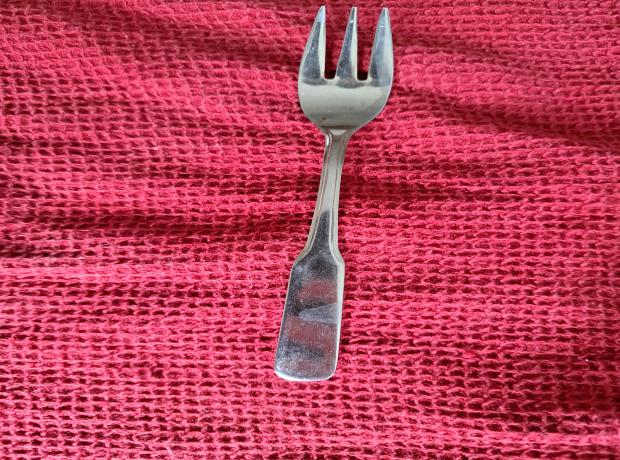metal: (275, 3, 399, 382)
